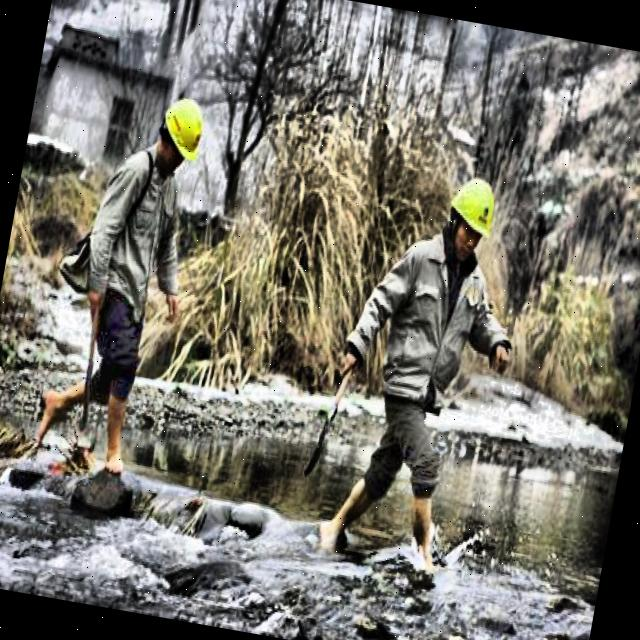helmet: (437, 167, 504, 268), (146, 86, 212, 182)
